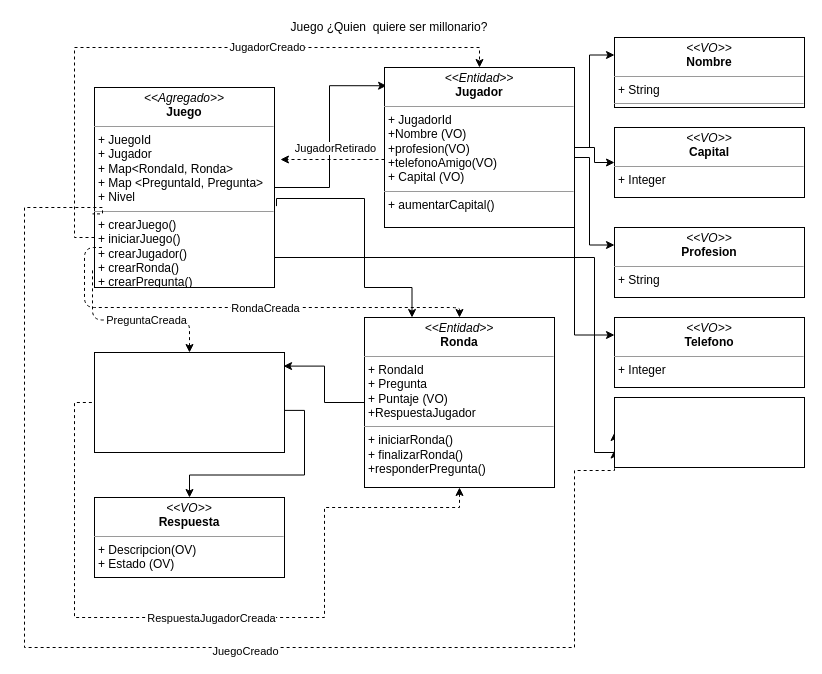
Image size: 822x674. Some labels were removed from this diagram. Here are the shapes that lost their labels. From the top down, the centre of each, then its label:
At [189,402]: "<<Entidad>> Pregunta + PreguntaId + Descripcion (OV) + Set<Respuesta>(OV)".
At [709,432]: "<<VO>> Nivel + Integer".
